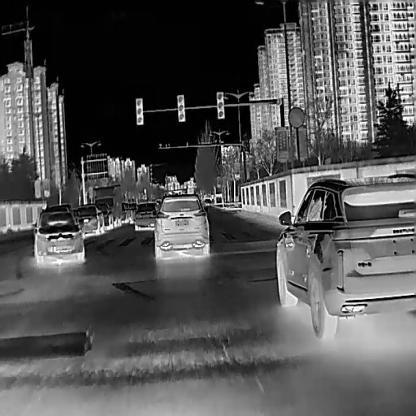car: (275, 171, 416, 341), (151, 193, 209, 257), (31, 210, 85, 263), (92, 182, 122, 223), (79, 203, 104, 234), (133, 201, 157, 230), (96, 202, 114, 229)
